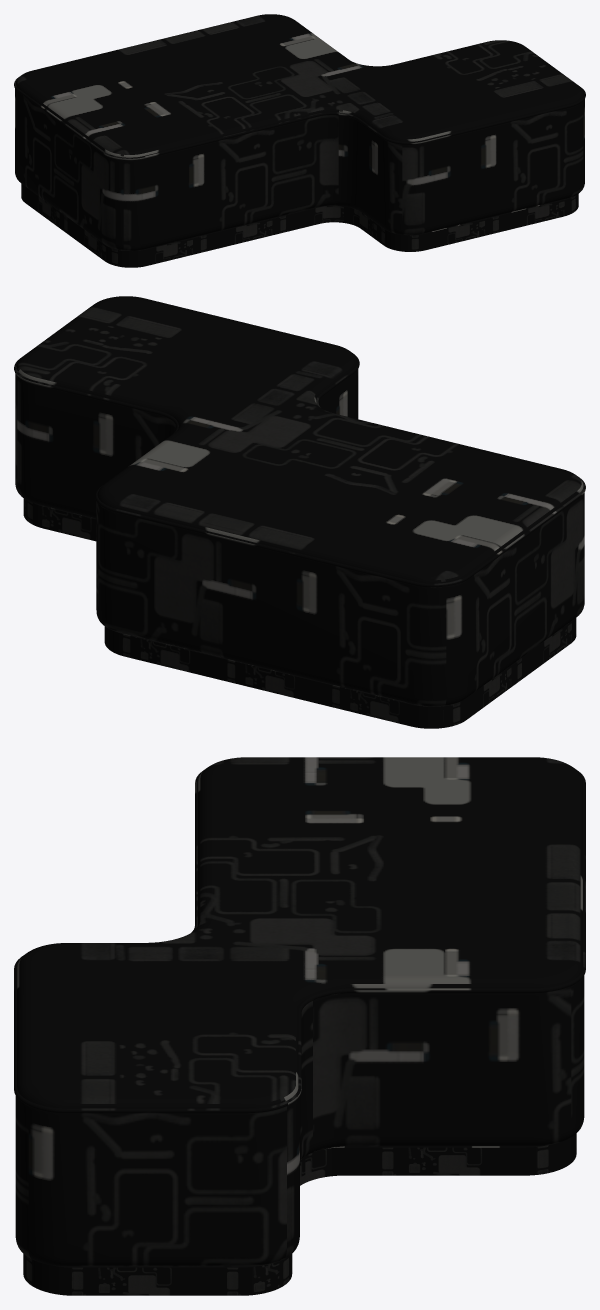
The model's file is liberta360_3.glb.
3 renders of one model, top to bottom at view 1: azimuth 30°, elevation 25°; view 2: azimuth 150°, elevation 25°; view 3: azimuth 270°, elevation 25°, orthographic. The views are drawn at different scales.
Parts seen in each view (by area): view 1: Rectangle012; view 2: Rectangle012; view 3: Rectangle012.
Boxes of the visible parts, x1=… form: Rectangle012: x1=14, y1=14, x2=585, y2=267; Rectangle012: x1=14, y1=296, x2=585, y2=728; Rectangle012: x1=14, y1=757, x2=585, y2=1295.
Size of the model in its own units: 1.61 by 0.42 by 1.11.
Materials: 1 (1 with a texture image).
